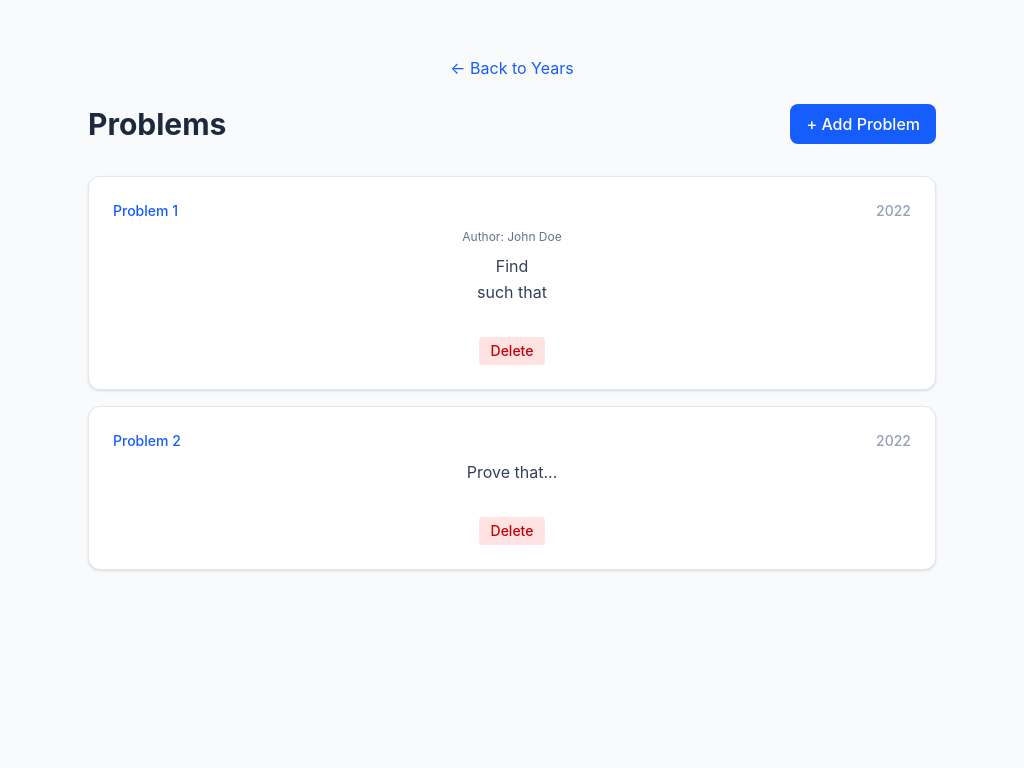
Test: opens form when "Add Problem" is clicked
Expected: the text "Problem 1" is shown, [113,201,178,221]
Click the button "+ Add Problem" at (863, 124), box [790,104,936,144]
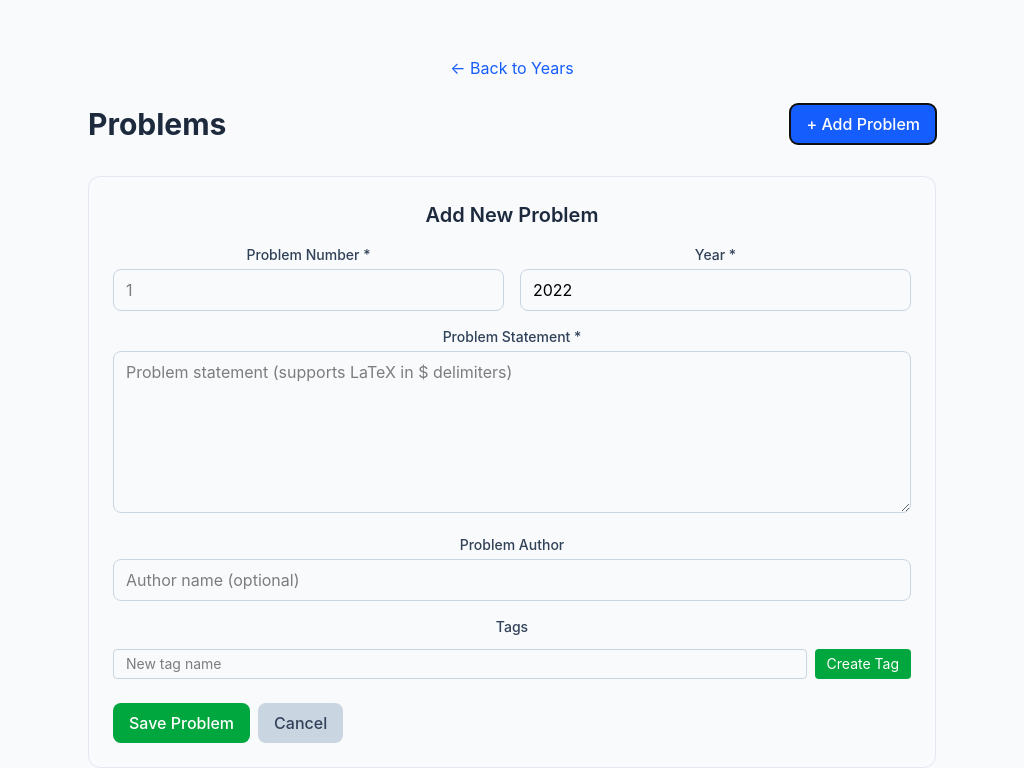
Now the number field labelled "Problem Number *" is shown, box [113,269,504,311]
Now the text box labelled "Problem Statement *" is shown, box [113,351,911,513]
Now the field labelled "Problem Author" is shown, box [113,559,911,601]
